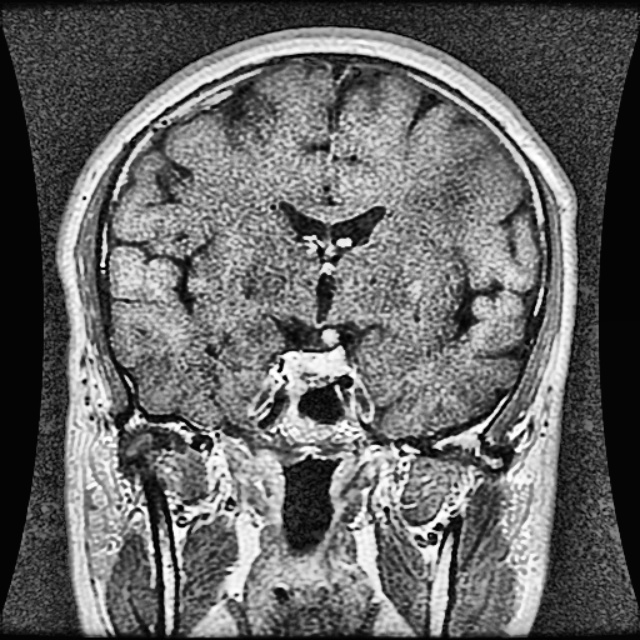Pituitary: (283, 348, 348, 387)
